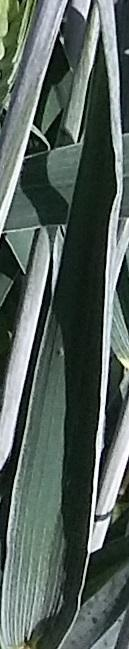Potato: (6, 336, 63, 648)
